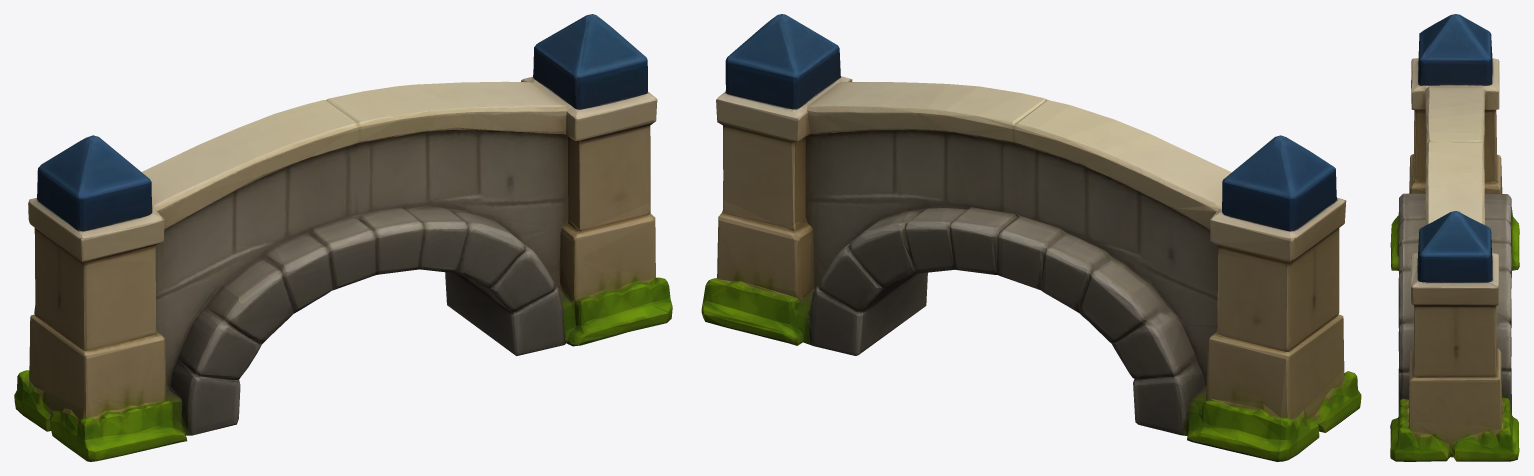
File: stone_arch.glb
3 views of the same model, side by side, from view 1: azimuth 30°, elevation 25°; view 2: azimuth 150°, elevation 25°; view 3: azimuth 270°, elevation 25° (orthographic). The views are drawn at different scales.
Parts seen in each view (by area): view 1: geometry_0; view 2: geometry_0; view 3: geometry_0.
Boxes of the visible parts, x1,y1,x2,y2 form: geometry_0: (14,14,672,461); geometry_0: (701,14,1361,461); geometry_0: (1390,14,1519,461).
Bounding box in the file's own units: 0.9998 × 0.4728 × 0.2354.
1 material, 1 textured.
